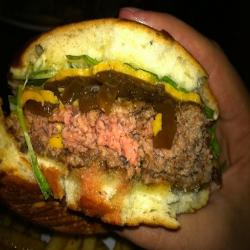burger: (2, 13, 236, 243)
